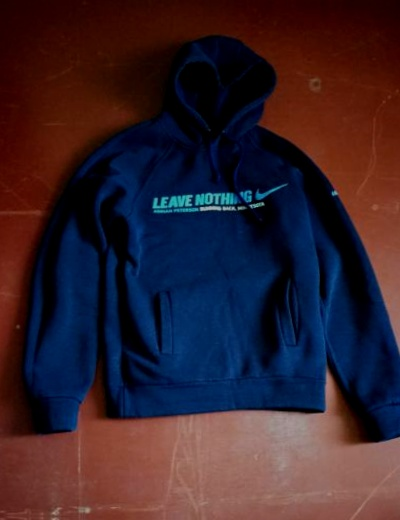Hoodie: (14, 25, 400, 462)
